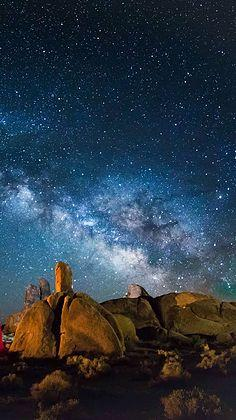mountain: (7, 268, 139, 369)
sea_river: (1, 0, 236, 364)
